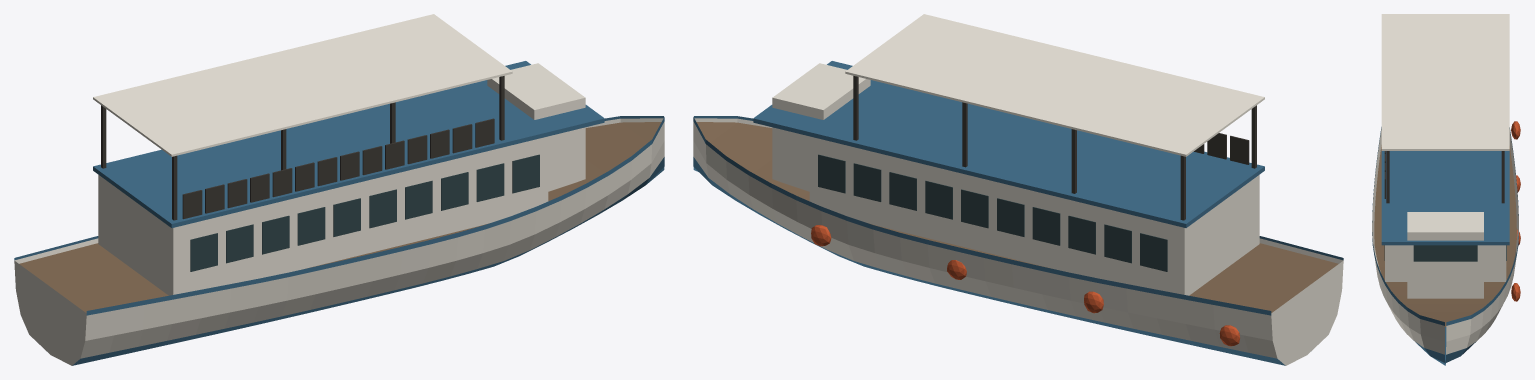
The model's file is yolcu-motoru.glb.
3 views of the same model, side by side, from view 1: azimuth 30°, elevation 25°; view 2: azimuth 150°, elevation 25°; view 3: azimuth 270°, elevation 25° (orthographic). The views are drawn at different scales.
Parts seen in each view (by area): view 1: tekne_beyaz, tekne_mavi, yelken, cam, demir, ahsap; view 2: tekne_beyaz, tekne_mavi, yelken, cam, ahsap, demir, can; view 3: yelken, tekne_mavi, tekne_beyaz, ahsap, cam, demir, can.
Part boxes in pixels (bbox=[...]): tekne_beyaz: bbox=[14, 63, 664, 365]; tekne_mavi: bbox=[14, 61, 664, 365]; yelken: bbox=[93, 14, 512, 156]; cam: bbox=[190, 154, 539, 271]; demir: bbox=[101, 76, 504, 220]; ahsap: bbox=[19, 122, 661, 312]; tekne_beyaz: bbox=[693, 63, 1343, 365]; tekne_mavi: bbox=[693, 61, 1343, 365]; yelken: bbox=[845, 14, 1264, 156]; cam: bbox=[818, 154, 1167, 271]; ahsap: bbox=[696, 122, 1338, 312]; demir: bbox=[853, 76, 1256, 220]; can: bbox=[811, 225, 1239, 346]; yelken: bbox=[1381, 14, 1509, 150]; tekne_mavi: bbox=[1372, 127, 1518, 365]; tekne_beyaz: bbox=[1372, 129, 1518, 354]; ahsap: bbox=[1374, 145, 1516, 326]; cam: bbox=[1384, 245, 1506, 261]; demir: bbox=[1384, 151, 1504, 203]; can: bbox=[1511, 121, 1520, 301].
Size of the model in its own units: 18 by 5.86 by 4.66.
